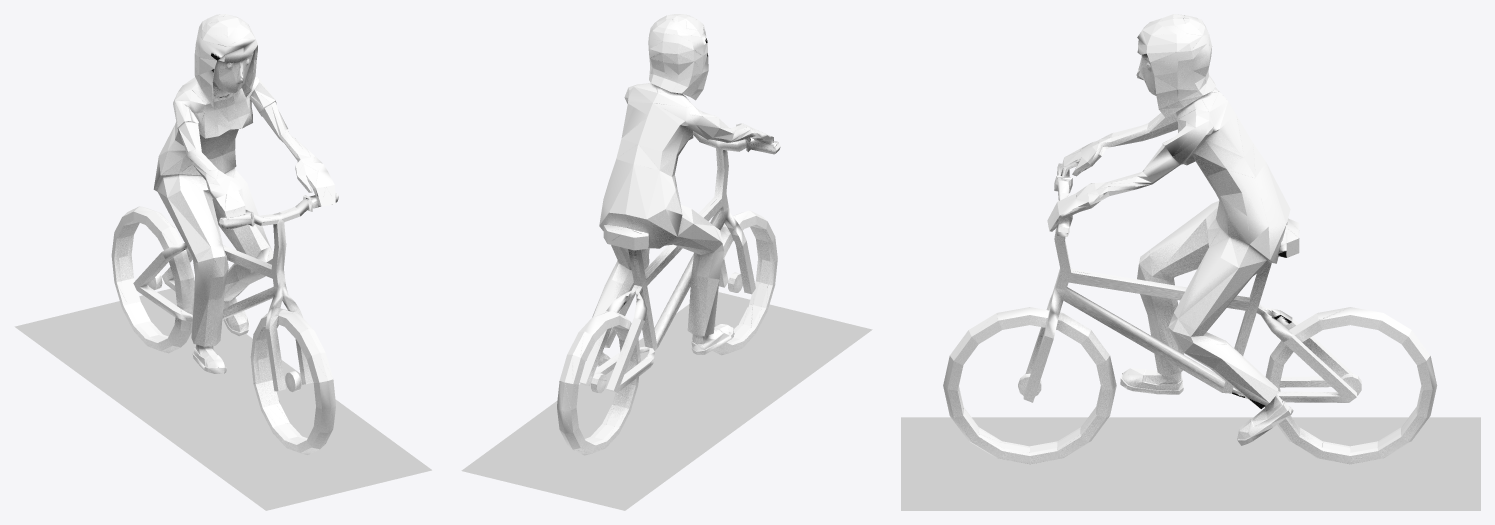
File: cyclist.glb
The picture shows the model from 3 angles, left to right: view 1: azimuth 30°, elevation 25°; view 2: azimuth 150°, elevation 25°; view 3: azimuth 270°, elevation 25°; orthographic projection. The views are drawn at different scales.
Parts seen in each view (by area): view 1: Entity, Plane; view 2: Entity, Plane; view 3: Entity, Plane.
Boxes of the visible parts, x1=… form: Entity: x1=111, y1=14, x2=338, y2=454; Plane: x1=14, y1=288, x2=431, y2=510; Entity: x1=557, y1=14, x2=780, y2=455; Plane: x1=461, y1=292, x2=872, y2=510; Entity: x1=943, y1=14, x2=1437, y2=464; Plane: x1=901, y1=417, x2=1480, y2=510.
Size of the model in its own units: 0.6483 by 1.43 by 1.7.
2 materials, 1 textured.
